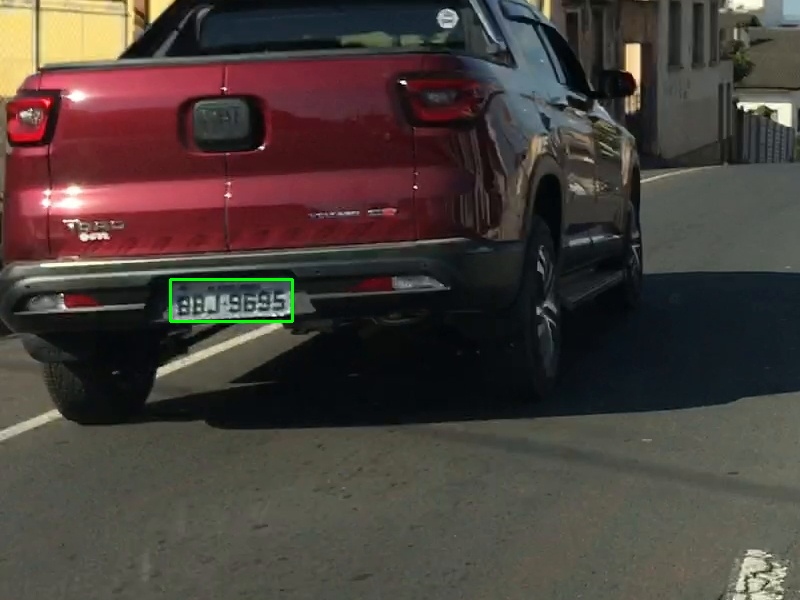placa: (170, 279, 292, 321)
